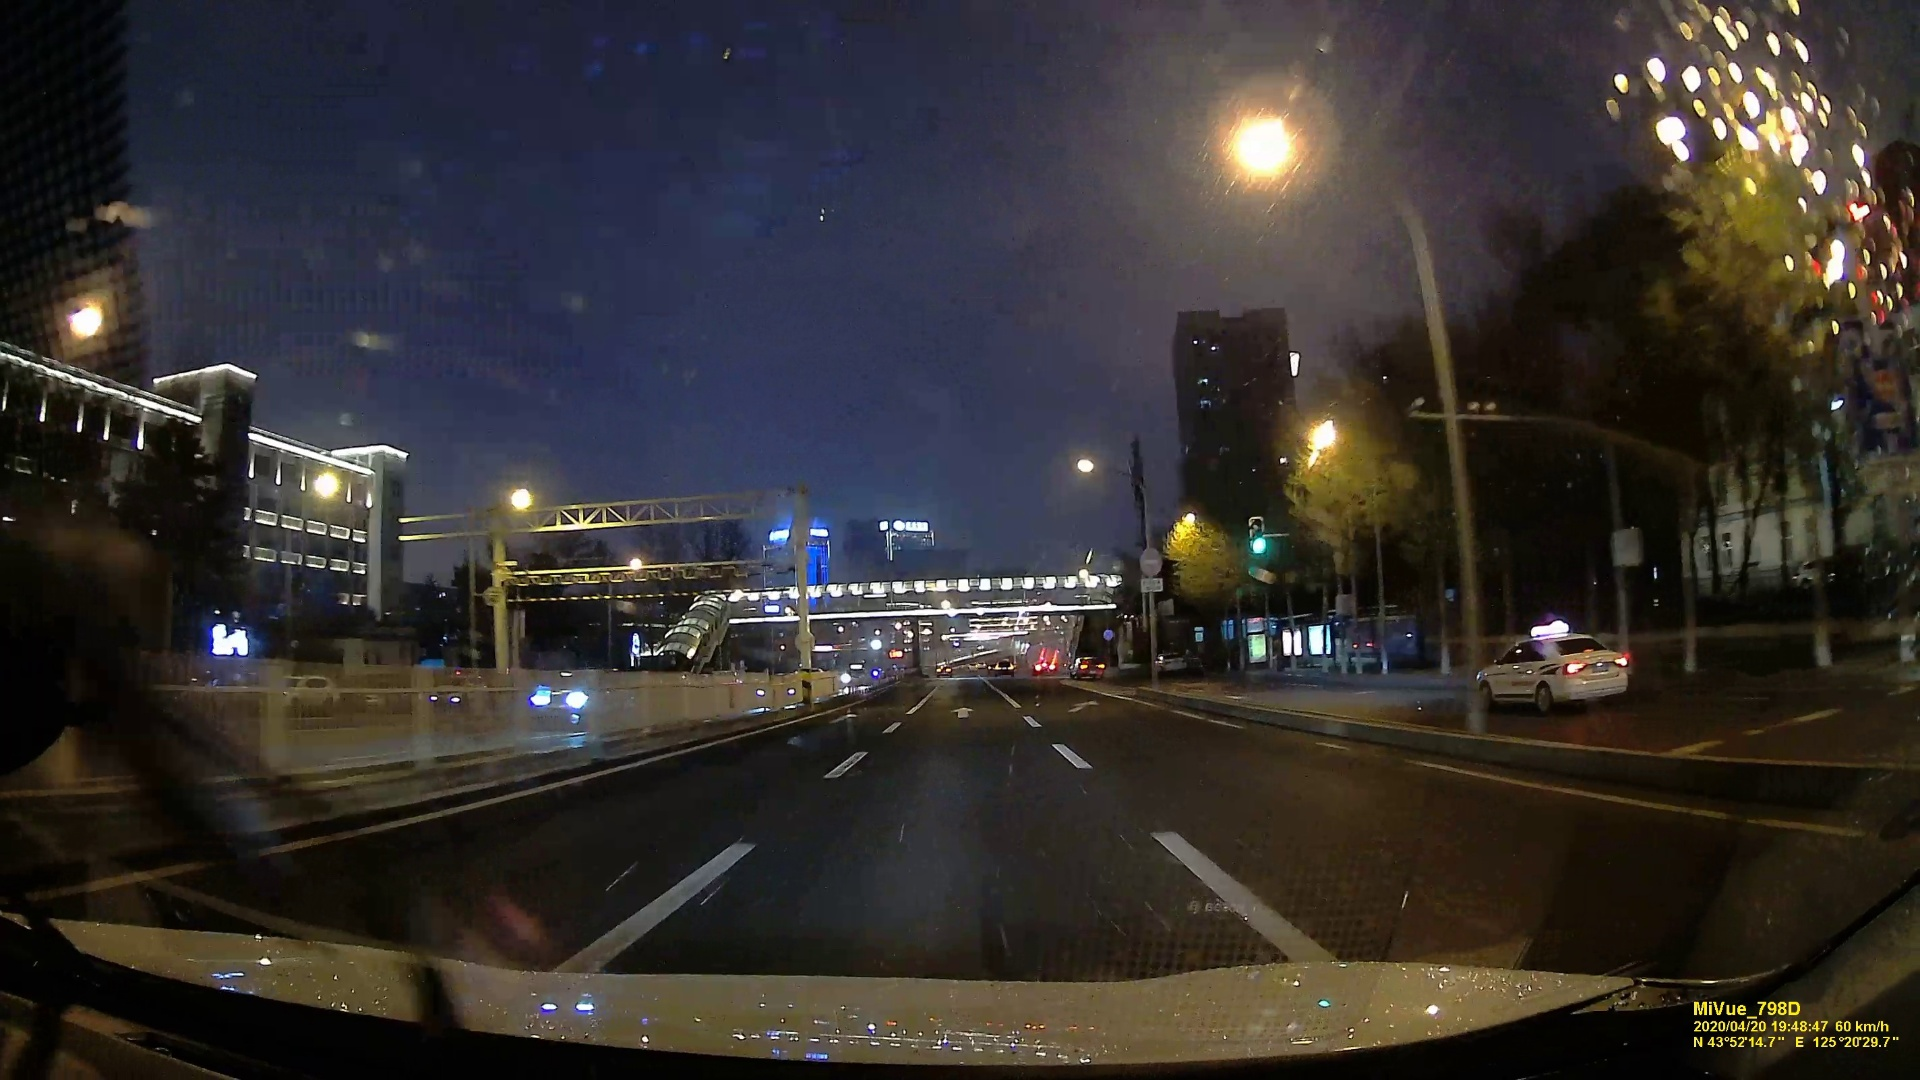traffic_sign: (1250, 517, 1265, 551), (1142, 578, 1164, 592)
vehicle: (1476, 636, 1629, 709), (1069, 658, 1106, 678)
